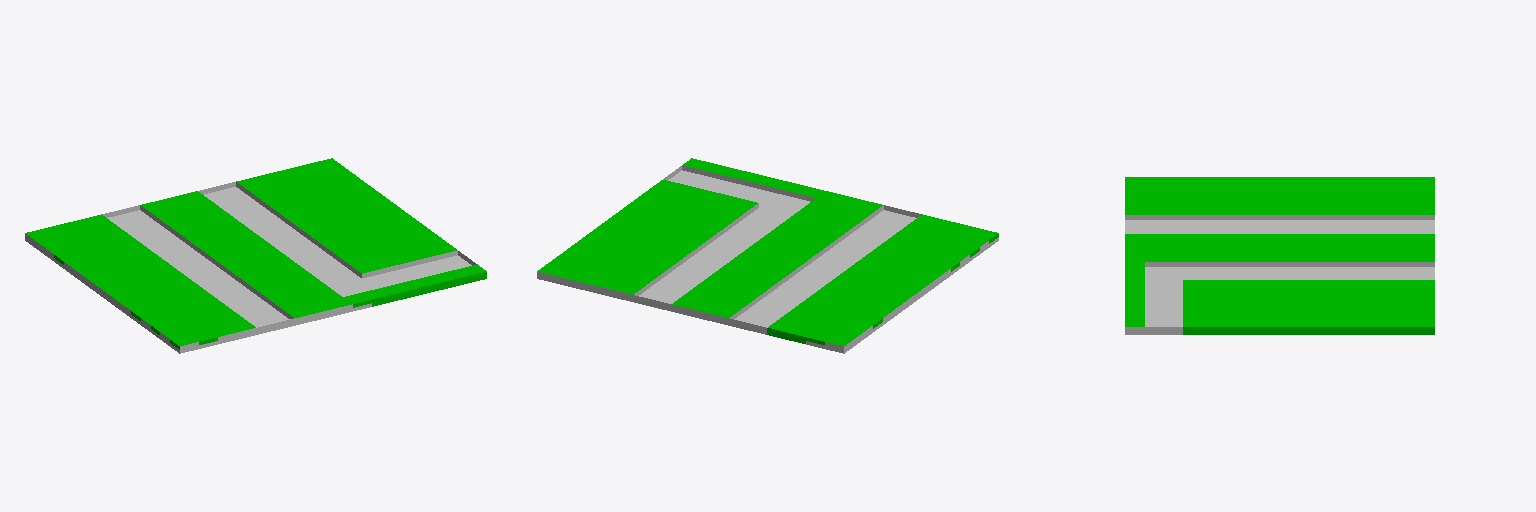
The model's file is TestLevelMapwMaterials.obj.
The picture shows the model from 3 angles: view 1: azimuth 30°, elevation 25°; view 2: azimuth 150°, elevation 25°; view 3: azimuth 270°, elevation 25°; orthographic projection.
Parts seen in each view (by area): view 1: Cube; view 2: Cube; view 3: Cube.
Part boxes in pixels (bbox=[...]): Cube: bbox=[25, 158, 486, 353]; Cube: bbox=[537, 158, 998, 353]; Cube: bbox=[1125, 177, 1434, 334].
Bounding box in the file's own units: 15.22 × 0.3497 × 13.28.